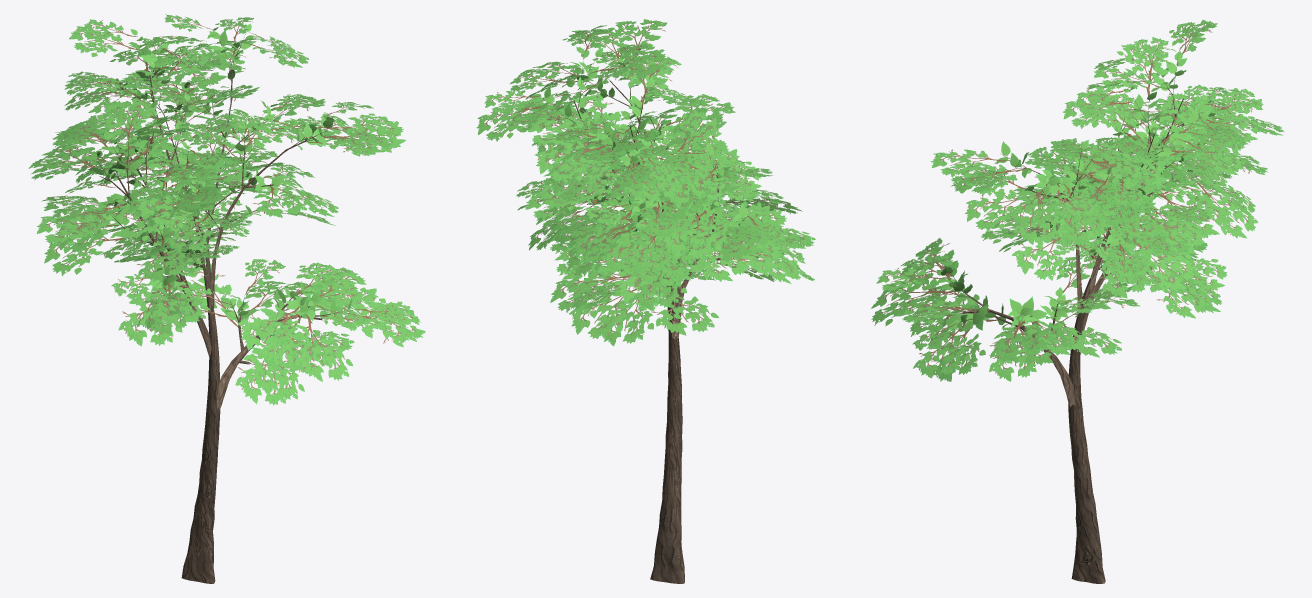
The model's file is Stylized_Broadleaf_001_3.fbx.
3 views of the same model, side by side, from view 1: azimuth 30°, elevation 25°; view 2: azimuth 150°, elevation 25°; view 3: azimuth 270°, elevation 25° (orthographic). The views are drawn at different scales.
Parts seen in each view (by area): view 1: Stylized_Broadleaf_001_3; view 2: Stylized_Broadleaf_001_3; view 3: Stylized_Broadleaf_001_3.
Part boxes in pixels (bbox=[...]): Stylized_Broadleaf_001_3: bbox=[28, 14, 425, 583]; Stylized_Broadleaf_001_3: bbox=[476, 19, 815, 583]; Stylized_Broadleaf_001_3: bbox=[871, 20, 1284, 583].
Size of the model in its own units: 14.05 by 21.14 by 15.69.
4 materials, 3 textured.
